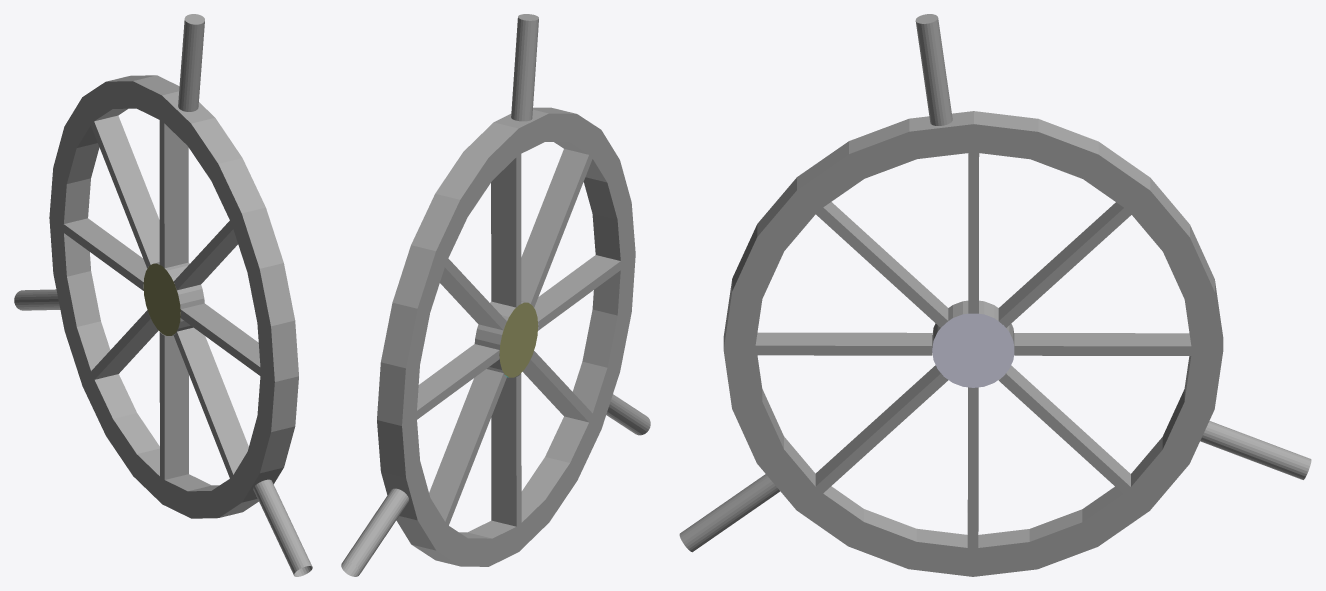
File: silver-valve-8-star.dae
3 renders of one model, left to right at view 1: azimuth 30°, elevation 25°; view 2: azimuth 150°, elevation 25°; view 3: azimuth 270°, elevation 25°, orthographic. The views are drawn at different scales.
Parts seen in each view (by area): view 1: skp1EE5 (×15); view 2: skp1EE5 (×15); view 3: skp1EE5 (×14).
Boxes of the visible parts, x1,y1,x2,y2 form: skp1EE5 (×15): [14, 14, 312, 576]; skp1EE5 (×15): [341, 14, 650, 576]; skp1EE5 (×14): [679, 14, 1311, 576].
Size of the model in its own units: 1.18 by 24.07 by 23.22.
